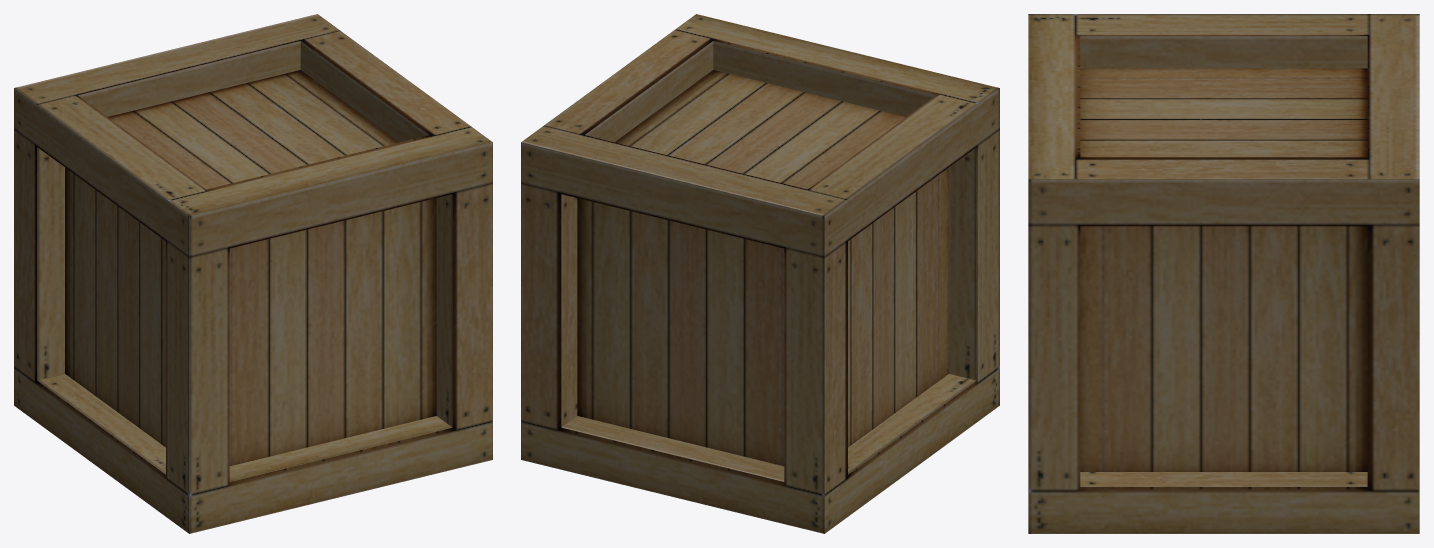
The model's file is Crate.fbx.
3 renders of one model, left to right at view 1: azimuth 30°, elevation 25°; view 2: azimuth 150°, elevation 25°; view 3: azimuth 270°, elevation 25°, orthographic. The views are drawn at different scales.
Parts seen in each view (by area): view 1: Cube.001; view 2: Cube.001; view 3: Cube.001.
Part boxes in pixels (bbox=[...]): Cube.001: bbox=[14, 14, 492, 533]; Cube.001: bbox=[521, 14, 999, 533]; Cube.001: bbox=[1028, 14, 1419, 533].
Size of the model in its own units: 200 by 200 by 200.
